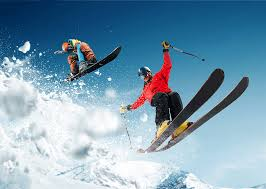snowboard: (70, 46, 123, 82)
